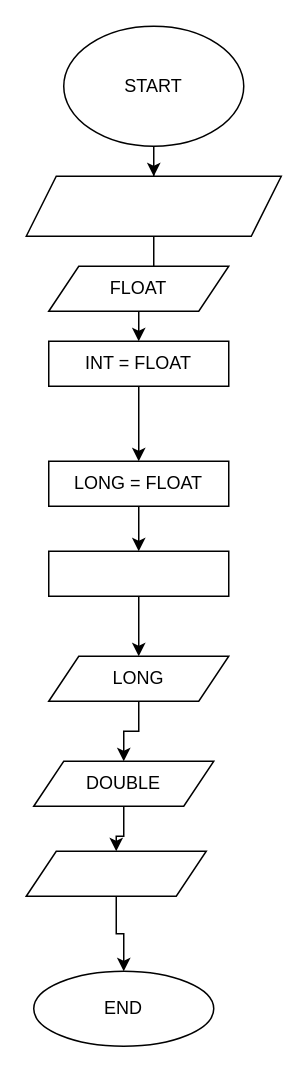
The diagram is 308 pixels wide and 1073 high, and some of its shapes have lost their labels. The shapes that lost their labels are listed below. From the top down, each one's box as (x1, y1, x2, y2) in pixels, then its label:
(25, 175, 281, 236): SCRIVI UN NUMERO DECIMALE
(47, 550, 229, 596): DOUBLE = FLOAT
(25, 850, 206, 896): INT
